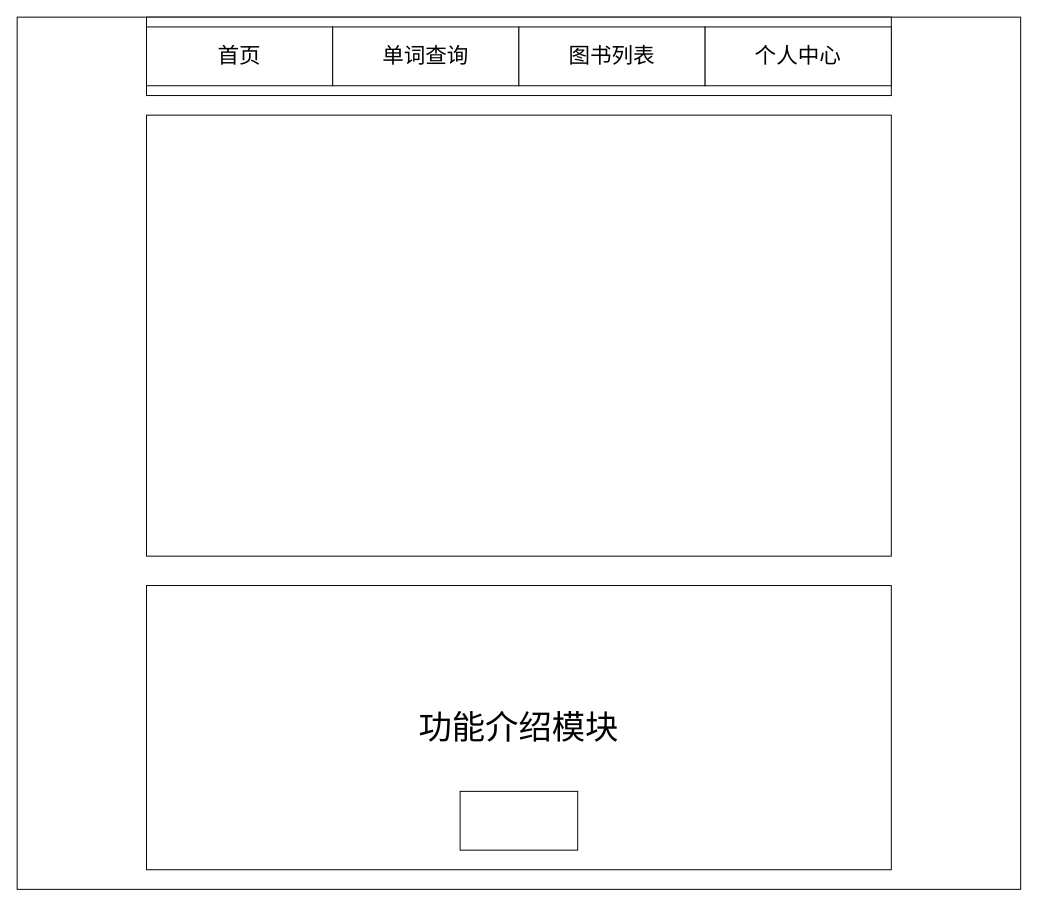
The diagram is 1038 pixels wide and 907 high, and some of its shapes have lost their labels. The centre of each missing label's shape, as x and y in pixels:
"单词卡片模块" goes at [518,335].
"快速开始" goes at [518,820].
